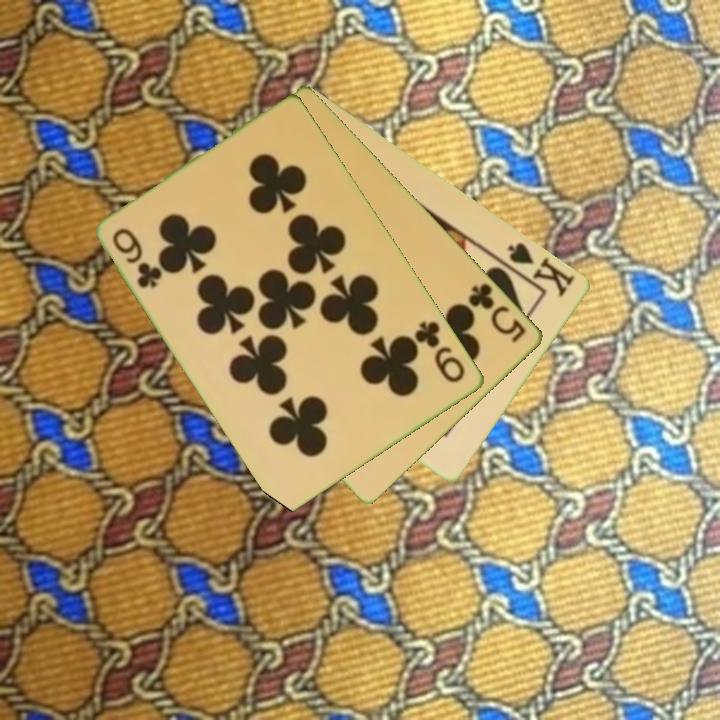5c: (465, 279, 530, 346)
9c: (411, 317, 469, 386), (109, 224, 166, 292)
Ks: (505, 238, 579, 300)
